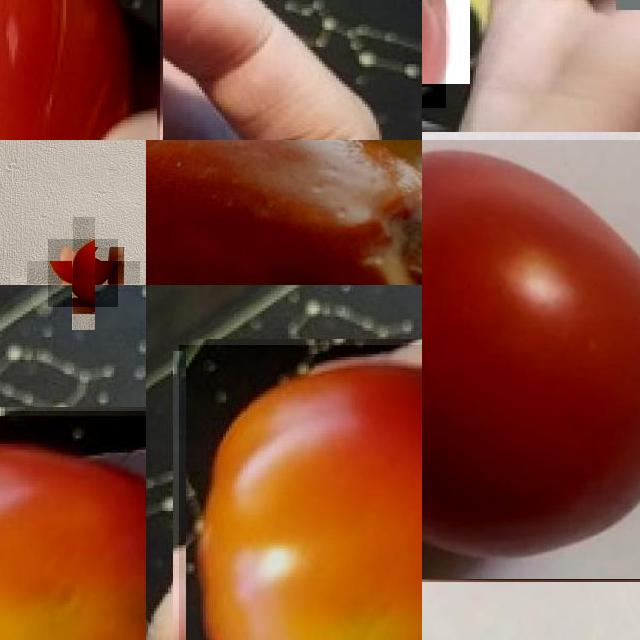0: (179, 344, 422, 640), (0, 411, 146, 640), (48, 239, 118, 307)
1: (146, 140, 422, 285), (0, 0, 160, 140)
Fresh Tomato: (422, 140, 640, 580)
